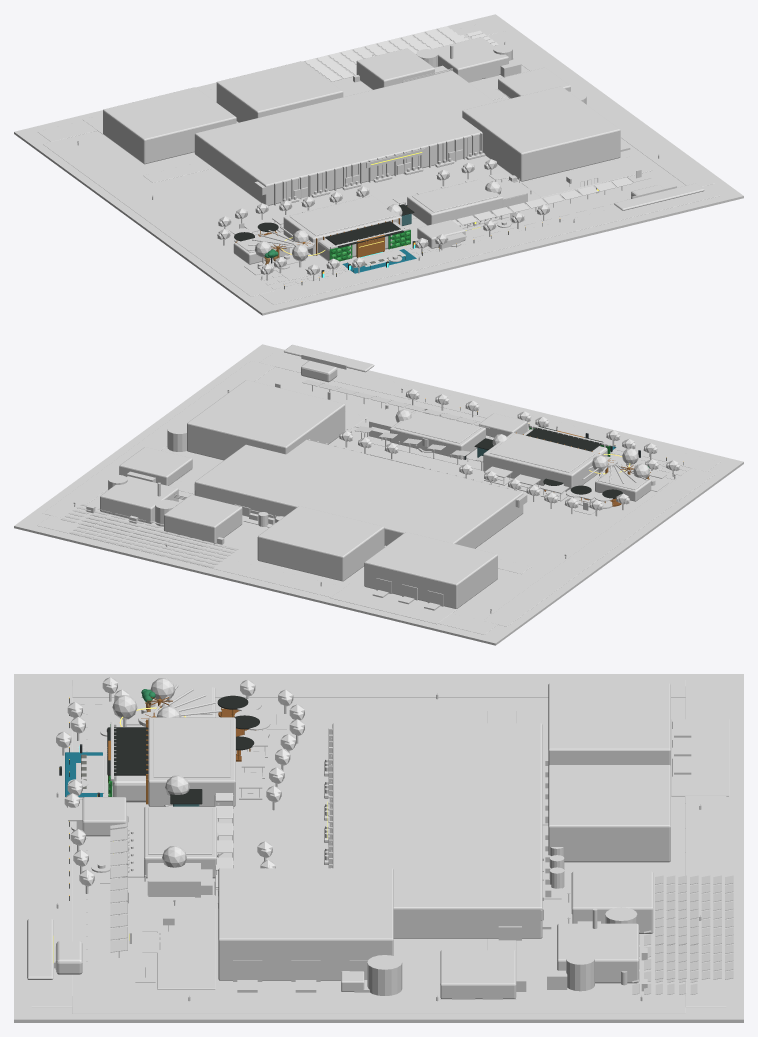
The model's file is POVU_REV003_MASTER.glb.
3 renders of one model, top to bottom at view 1: azimuth 30°, elevation 25°; view 2: azimuth 150°, elevation 25°; view 3: azimuth 270°, elevation 25°, orthographic. The views are drawn at different scales.
Parts seen in each view (by area): view 1: SITE_7HA, Production_Hall, FG_Warehouse, RM_Warehouse, ROAD, ROAD002, Packaging_Warehouse, ROAD003, FG_Truck_Yard, GREEN_ROOF_Admin_RD_QC, Chemical_Compound, Utility_House (+11 smaller); view 2: SITE_7HA, Production_Hall, FG_Warehouse, Packaging_Warehouse, RM_Warehouse, ROAD002, ROAD, ROAD001, ROAD003, Chemical_Compound, Utility_House, GREEN_ROOF_Admin_RD_QC (+15 smaller); view 3: SITE_7HA, Production_Hall, FG_Warehouse, Packaging_Warehouse, ROAD003, ROAD, RM_Warehouse, ROAD002, ROAD001, FG_Truck_Yard, GREEN_ROOF_Admin_RD_QC, RM_Truck_Yard (+23 smaller).
Boxes of the visible parts, x1=… form: SITE_7HA: x1=14, y1=14, x2=743, y2=315; Production_Hall: x1=194, y1=70, x2=494, y2=205; FG_Warehouse: x1=462, y1=86, x2=620, y2=181; RM_Warehouse: x1=103, y1=87, x2=236, y2=164; ROAD: x1=260, y1=185, x2=720, y2=304; ROAD002: x1=43, y1=138, x2=274, y2=296; Packaging_Warehouse: x1=216, y1=61, x2=343, y2=122; ROAD003: x1=484, y1=31, x2=715, y2=186; FG_Truck_Yard: x1=521, y1=156, x2=652, y2=197; GREEN_ROOF_Admin_RD_QC: x1=289, y1=196, x2=395, y2=235; Chemical_Compound: x1=356, y1=48, x2=434, y2=89; Utility_House: x1=431, y1=37, x2=508, y2=81; SITE_7HA: x1=14, y1=344, x2=743, y2=645; Production_Hall: x1=194, y1=439, x2=523, y2=548; FG_Warehouse: x1=187, y1=380, x2=345, y2=460; Packaging_Warehouse: x1=257, y1=506, x2=384, y2=581; RM_Warehouse: x1=364, y1=532, x2=497, y2=608; ROAD002: x1=483, y1=468, x2=714, y2=626; ROAD: x1=260, y1=352, x2=720, y2=471; ROAD001: x1=37, y1=515, x2=497, y2=634; ROAD003: x1=42, y1=361, x2=274, y2=519; Chemical_Compound: x1=164, y1=494, x2=242, y2=544; Utility_House: x1=100, y1=476, x2=178, y2=523; GREEN_ROOF_Admin_RD_QC: x1=489, y1=433, x2=595, y2=472; SITE_7HA: x1=14, y1=674, x2=743, y2=1022; Production_Hall: x1=332, y1=723, x2=542, y2=938; FG_Warehouse: x1=218, y1=868, x2=393, y2=980; Packaging_Warehouse: x1=548, y1=765, x2=670, y2=862; ROAD003: x1=72, y1=996, x2=685, y2=1013; ROAD: x1=31, y1=686, x2=72, y2=1007; RM_Warehouse: x1=548, y1=683, x2=670, y2=765; ROAD002: x1=72, y1=680, x2=685, y2=697; ROAD001: x1=685, y1=686, x2=726, y2=1007; FG_Truck_Yard: x1=157, y1=908, x2=215, y2=989; GREEN_ROOF_Admin_RD_QC: x1=153, y1=719, x2=230, y2=777; RM_Truck_Yard: x1=671, y1=719, x2=729, y2=796.
Size of the model in its own units: 280 by 17.2 by 250.
